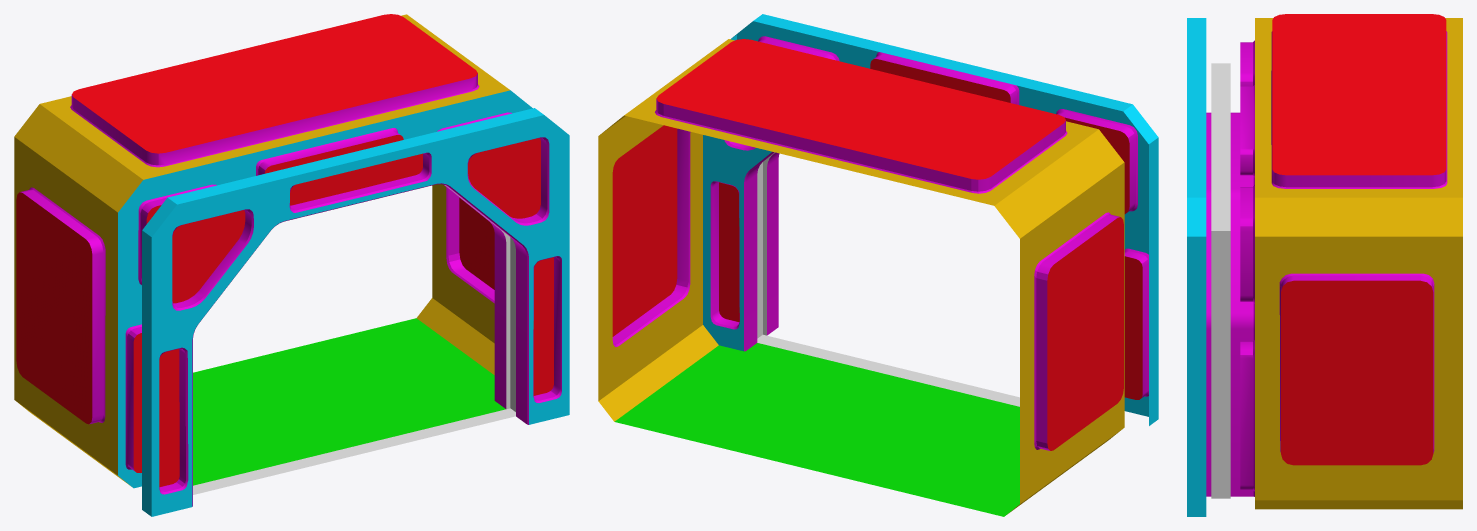
File: Arch Door Trans.fbx
3 views of the same model, side by side, from view 1: azimuth 30°, elevation 25°; view 2: azimuth 150°, elevation 25°; view 3: azimuth 270°, elevation 25° (orthographic).
Visible parts, largest first — view 1: Arch+Door+Transition; view 2: Arch+Door+Transition; view 3: Arch+Door+Transition.
Part boxes in pixels (x1,y1,x2,y2): Arch+Door+Transition: [14, 14, 569, 516]; Arch+Door+Transition: [598, 14, 1158, 516]; Arch+Door+Transition: [1187, 14, 1462, 516].
Size of the model in its own units: 1060 by 730 by 570.
